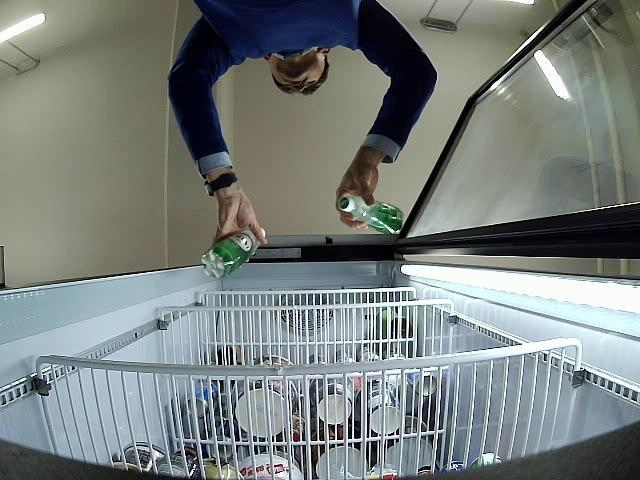18_trevi: (202, 222, 266, 278), (337, 197, 402, 235)
